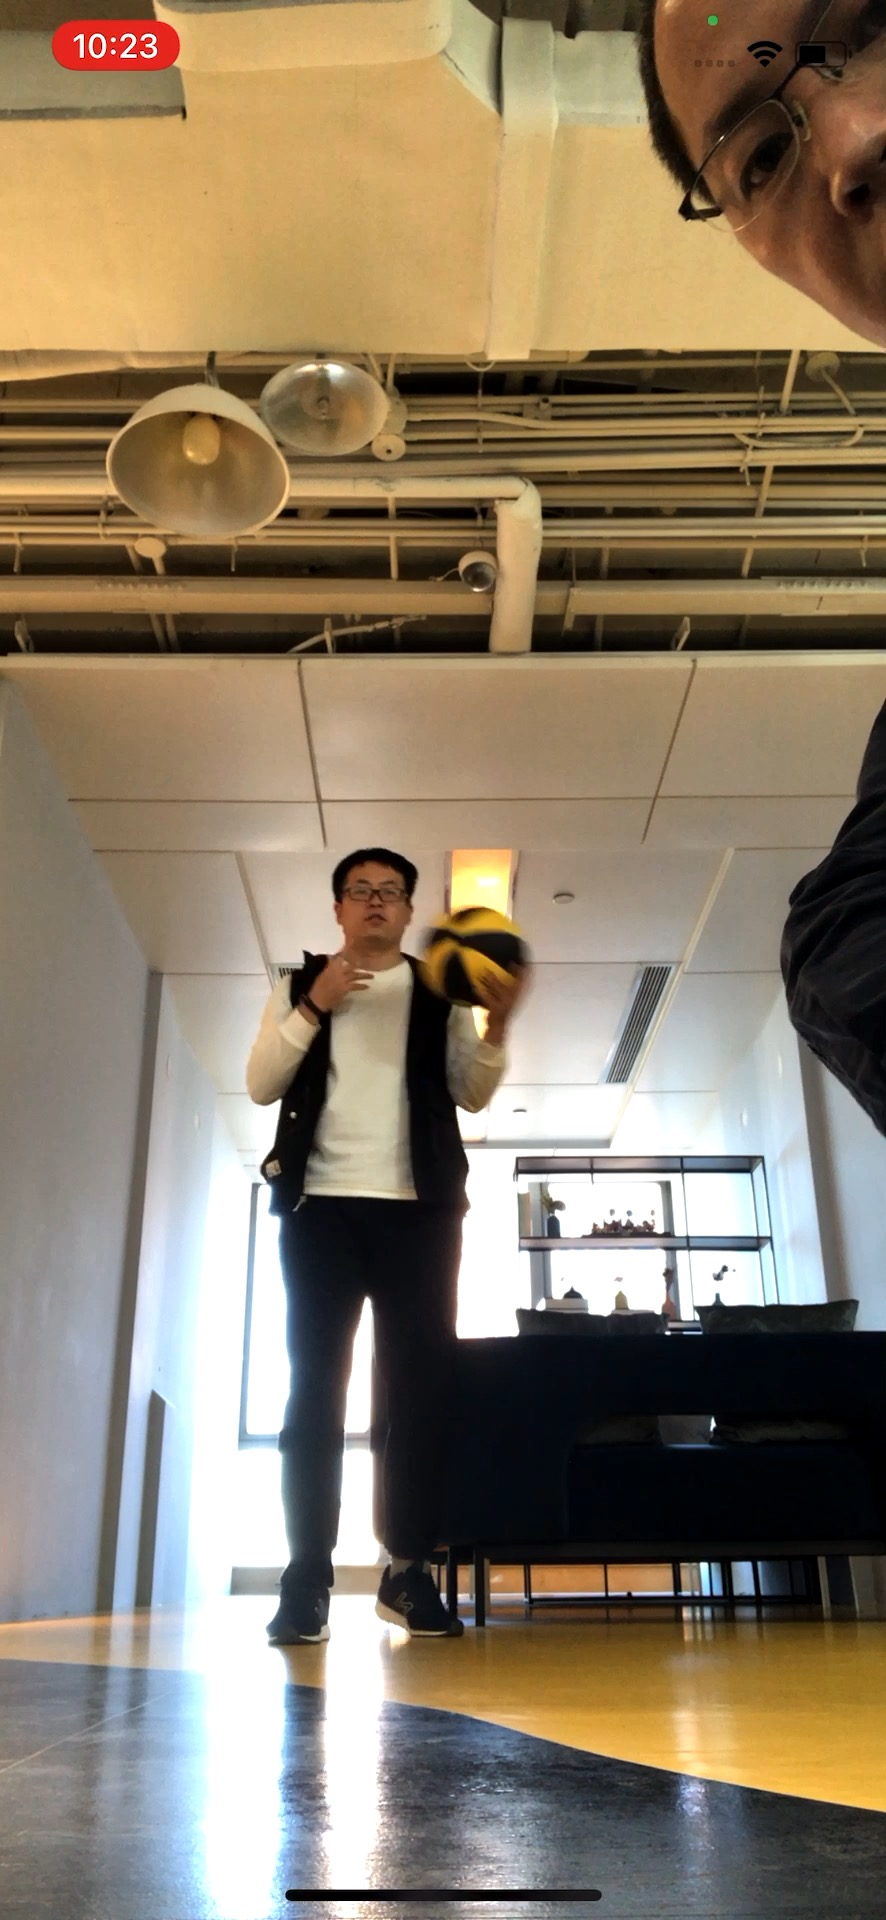ball: (421, 904, 531, 1010)
